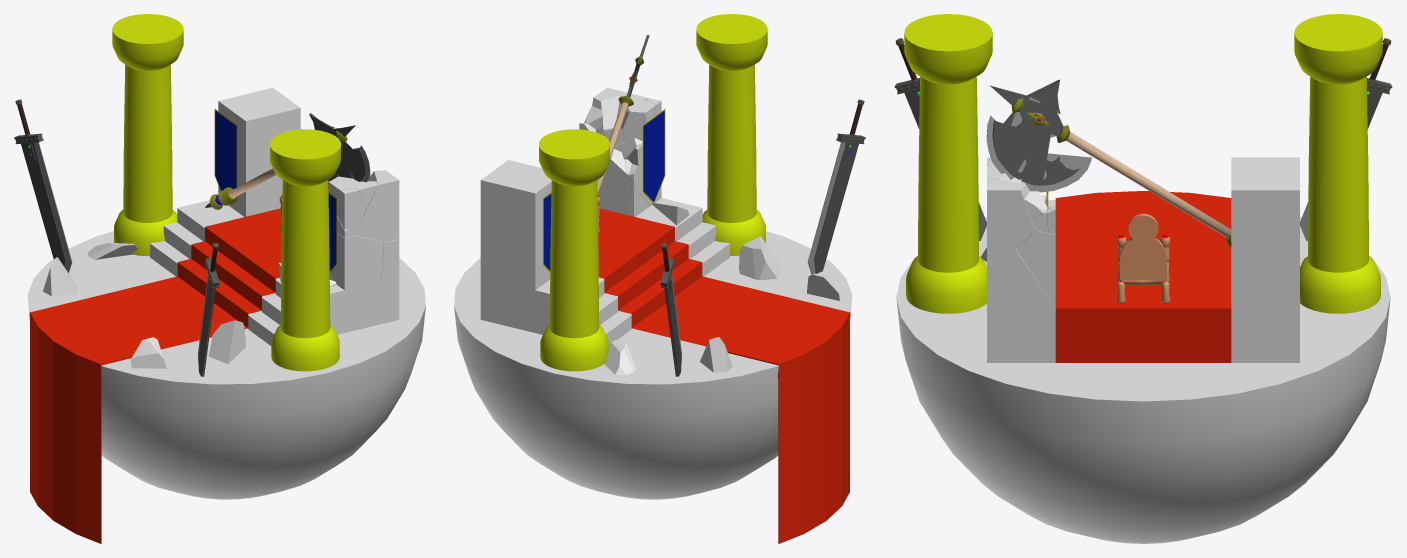
Rendered from Castle_select.fbx.
The picture shows the model from 3 angles, left to right: view 1: azimuth 30°, elevation 25°; view 2: azimuth 150°, elevation 25°; view 3: azimuth 270°, elevation 25°; orthographic projection. The views are drawn at different scales.
Visible parts, largest first — view 1: sphere_mini, redcarpet_mini, Hshira, ouza, ouza.001_cell.007_cell.018, sord, 立方体, Flag.001, 円柱.004; view 2: sphere_mini, redcarpet_mini, Hshira, ouza, ouza.001_cell.007_cell.018, sord, 立方体, Flag.001; view 3: sphere_mini, Hshira, redcarpet_mini, ouza, ouza.001_cell.007_cell.018, 円柱.004, gyokuza, sord, 円柱.005.
Part boxes in pixels (x1,y1,x2,y2): sphere_mini: [27, 231, 425, 499]; redcarpet_mini: [30, 208, 281, 543]; Hshira: [112, 14, 340, 371]; ouza: [150, 87, 399, 345]; ouza.001_cell.007_cell.018: [328, 170, 399, 290]; sord: [14, 99, 219, 376]; 立方体: [43, 243, 336, 368]; Flag.001: [214, 109, 336, 272]; 円柱.004: [309, 113, 370, 183]; sphere_mini: [454, 231, 852, 499]; redcarpet_mini: [598, 208, 849, 543]; Hshira: [539, 14, 767, 371]; ouza: [480, 160, 729, 343]; ouza.001_cell.007_cell.018: [579, 87, 661, 216]; sord: [660, 99, 865, 376]; 立方体: [604, 203, 839, 374]; Flag.001: [543, 109, 665, 272]; sphere_mini: [896, 199, 1390, 543]; Hshira: [904, 14, 1382, 313]; redcarpet_mini: [1055, 191, 1231, 362]; ouza: [987, 157, 1299, 362]; ouza.001_cell.007_cell.018: [987, 157, 1055, 310]; 円柱.004: [986, 79, 1091, 192]; gyokuza: [1116, 213, 1170, 303]; sord: [894, 38, 1392, 240]; 円柱.005: [1066, 132, 1231, 238].
Size of the model in its own units: 316 by 345 by 319.
